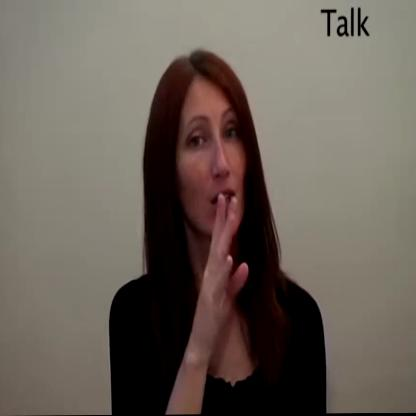Talk: (148, 42, 274, 373)
